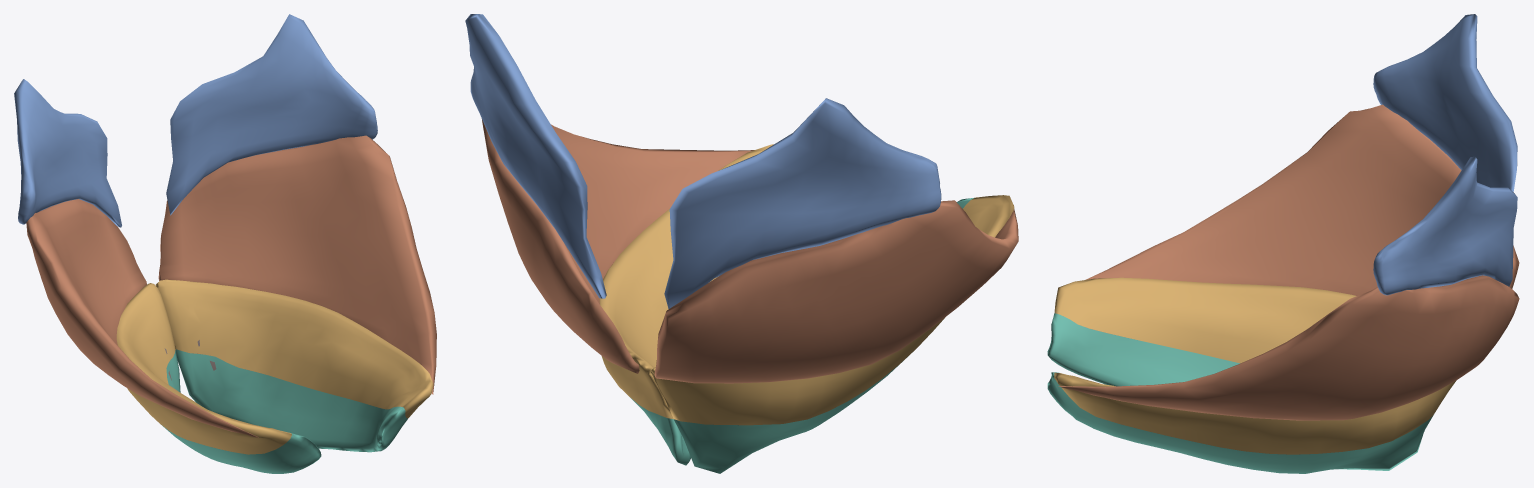
Rendered from pelvic-diaphragm.glb.
3 renders of one model, left to right at view 1: azimuth 30°, elevation 25°; view 2: azimuth 150°, elevation 25°; view 3: azimuth 270°, elevation 25°, orthographic. The views are drawn at different scales.
Parts seen in each view (by area): view 1: Iliococcygeus (left), Pubococcygeus (left), Coccygeus (left), Iliococcygeus (right), Puborectalis (left), Coccygeus (right), Pubococcygeus (right), Puborectalis (right); view 2: Iliococcygeus (right), Coccygeus (right), Iliococcygeus (left), Coccygeus (left), Pubococcygeus (right), Pubococcygeus (left), Puborectalis (right), Puborectalis (left); view 3: Iliococcygeus (right), Iliococcygeus (left), Pubococcygeus (right), Coccygeus (right), Pubococcygeus (left), Coccygeus (left), Puborectalis (right), Puborectalis (left).
Boxes of the visible parts, left/top/right/bottom form: Iliococcygeus (left): left=158, top=135, right=436, bottom=394; Pubococcygeus (left): left=155, top=279, right=433, bottom=418; Coccygeus (left): left=166, top=14, right=377, bottom=215; Iliococcygeus (right): left=26, top=199, right=258, bottom=437; Puborectalis (left): left=175, top=349, right=407, bottom=452; Coccygeus (right): left=14, top=79, right=121, bottom=227; Pubococcygeus (right): left=116, top=283, right=291, bottom=454; Puborectalis (right): left=162, top=350, right=321, bottom=473; Iliococcygeus (right): left=654, top=200, right=1018, bottom=383; Coccygeus (right): left=664, top=98, right=941, bottom=308; Iliococcygeus (left): left=482, top=119, right=754, bottom=373; Coccygeus (left): left=465, top=14, right=606, bottom=298; Pubococcygeus (right): left=650, top=195, right=1014, bottom=425; Pubococcygeus (left): left=599, top=144, right=773, bottom=418; Puborectalis (right): left=674, top=197, right=974, bottom=473; Puborectalis (left): left=630, top=397, right=690, bottom=465; Iliococcygeus (right): left=1085, top=104, right=1519, bottom=295; Iliococcygeus (left): left=1058, top=275, right=1519, bottom=420; Pubococcygeus (right): left=1054, top=277, right=1356, bottom=363; Coccygeus (right): left=1373, top=14, right=1517, bottom=191; Pubococcygeus (left): left=1054, top=372, right=1456, bottom=454; Coccygeus (left): left=1373, top=156, right=1517, bottom=295; Puborectalis (right): left=1047, top=313, right=1239, bottom=386; Puborectalis (left): left=1047, top=372, right=1433, bottom=473.
Bounding box in the file's own units: 0.0916 × 0.084 × 0.0948.
